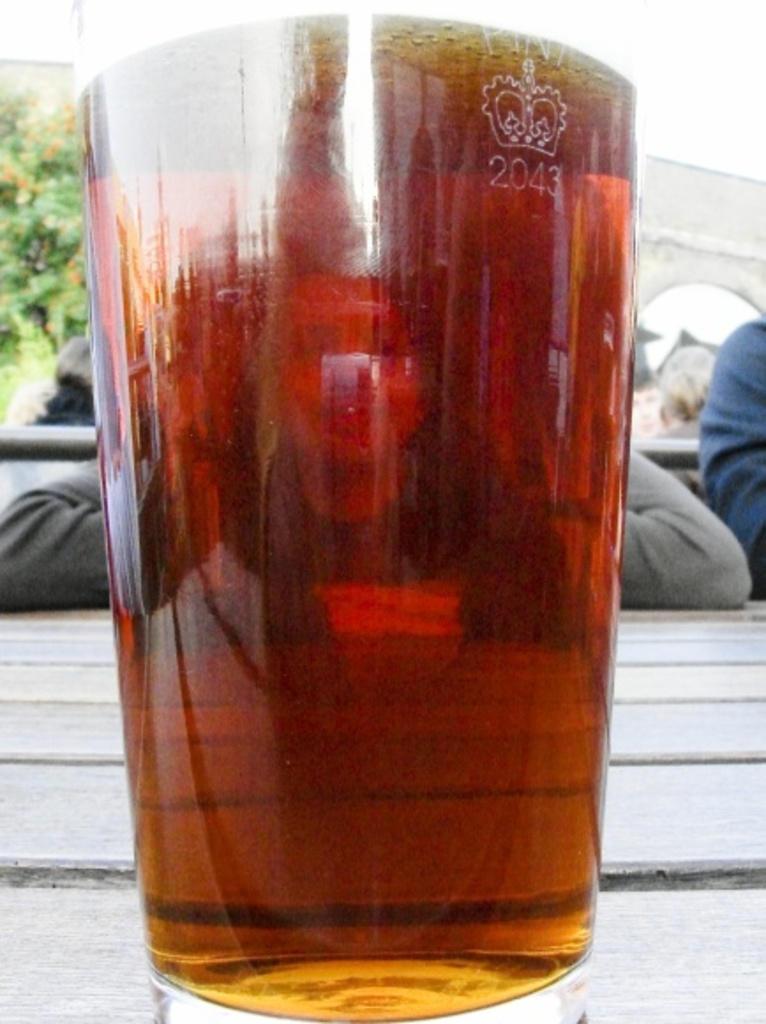Beer: (70, 0, 644, 1023)
